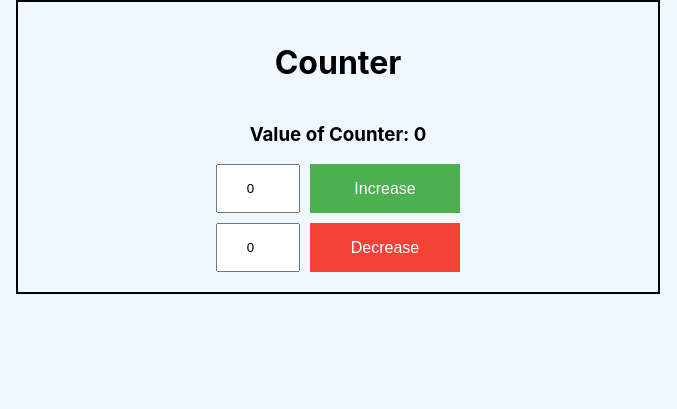
it: Testing My Counter App › Increase Counter › should increase counter by entered value
In the number field with test id "value_inc": (258, 189) [216,164,300,213], type "5"
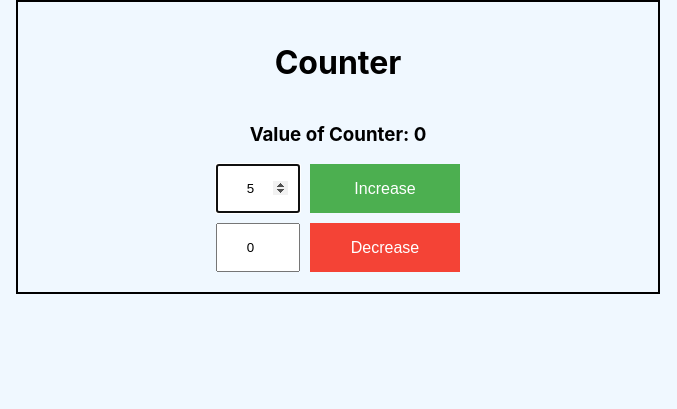
Click the button "Increase": (385, 189) [310,164,460,213]
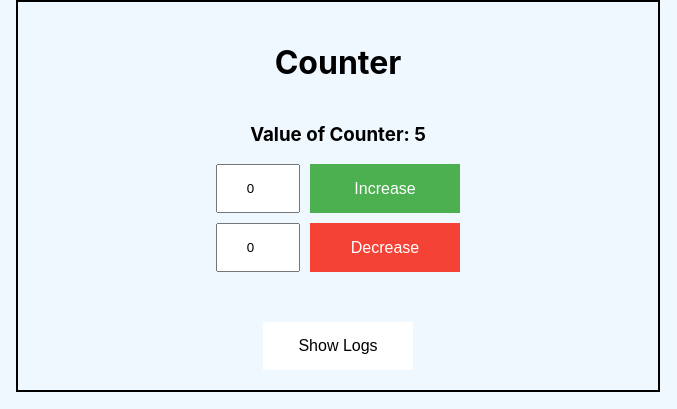
Result: the heading with test id "counter-value" reads "Value of Counter: 5" at [250,123,426,146]
